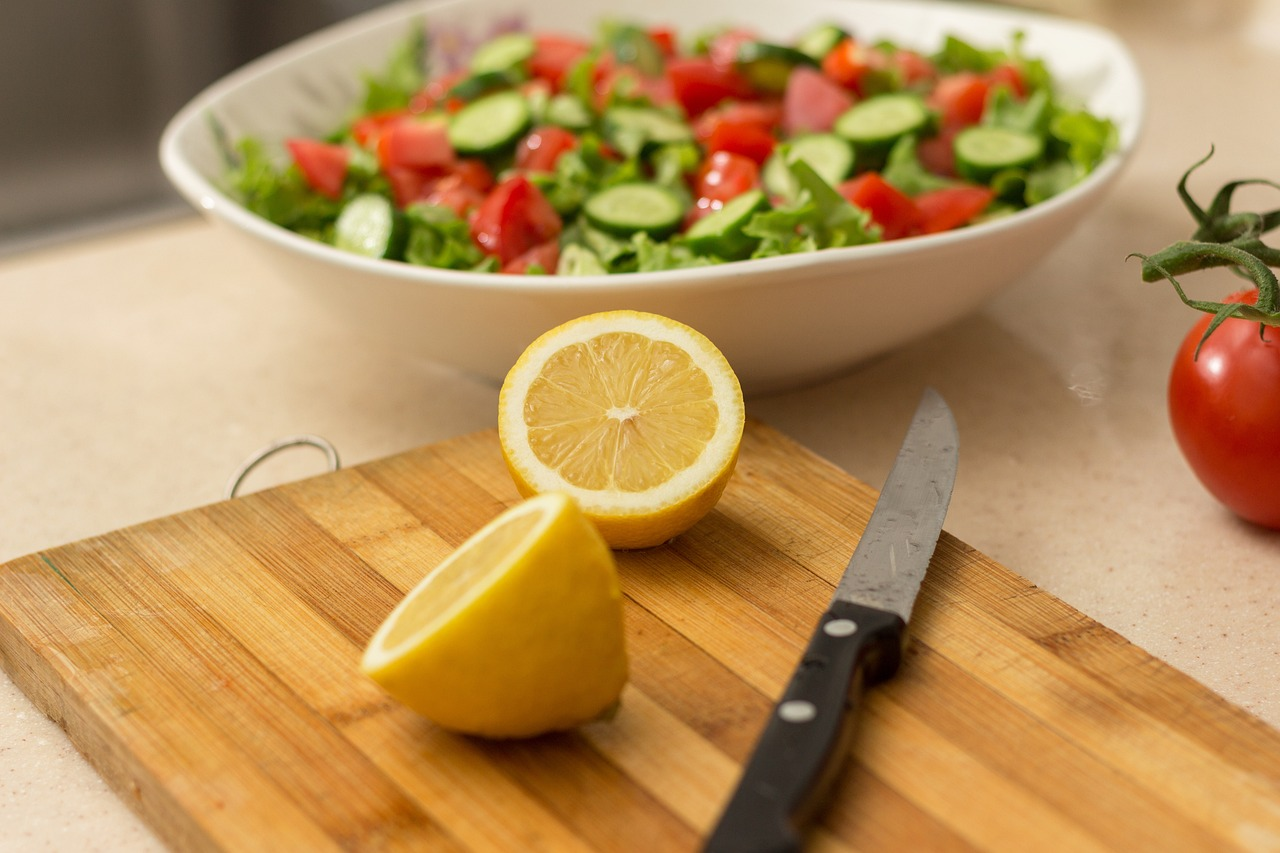knife: (684, 367, 968, 853)
